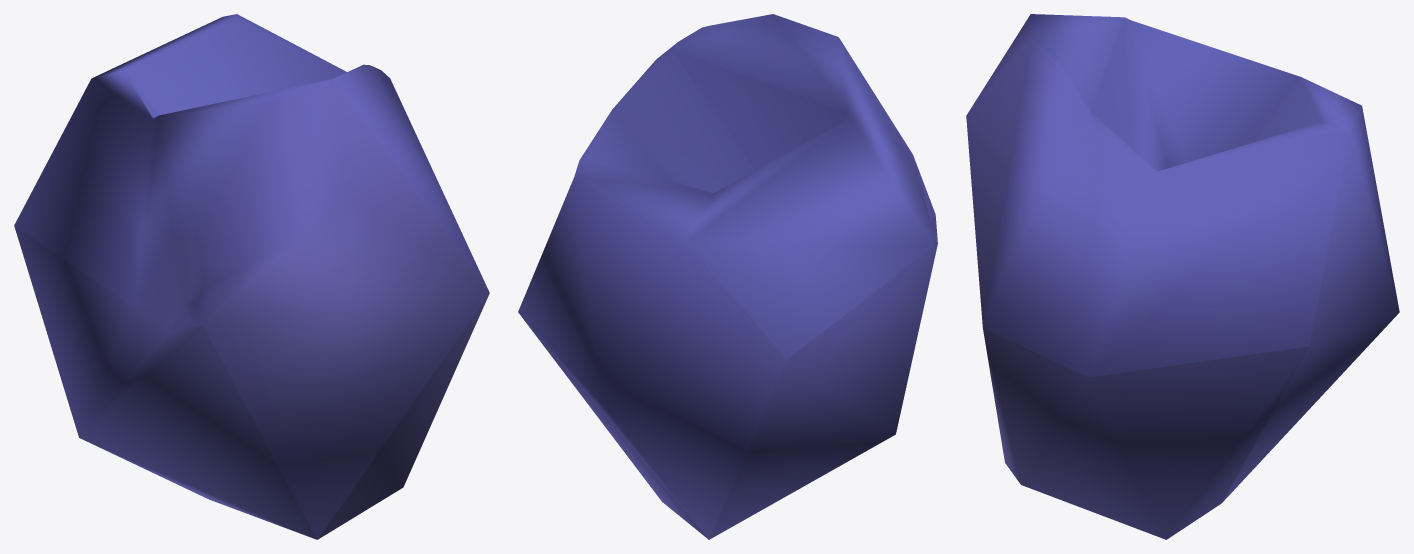
File: model.progressive.glb
The picture shows the model from 3 angles, left to right: view 1: azimuth 30°, elevation 25°; view 2: azimuth 150°, elevation 25°; view 3: azimuth 270°, elevation 25°; orthographic projection. The views are drawn at different scales.
Visible parts, largest first — view 1: mesh_input; view 2: mesh_input; view 3: mesh_input.
Boxes of the visible parts, left/top/right/bottom form: mesh_input: left=14, top=14, right=489, bottom=539; mesh_input: left=518, top=14, right=937, bottom=539; mesh_input: left=966, top=14, right=1399, bottom=539.
Size of the model in its own units: 1.42 by 1.8 by 1.48.
1 material, 1 textured.
